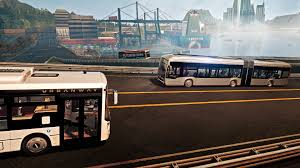bus: (1, 66, 118, 158), (155, 53, 292, 91), (117, 47, 153, 60)
